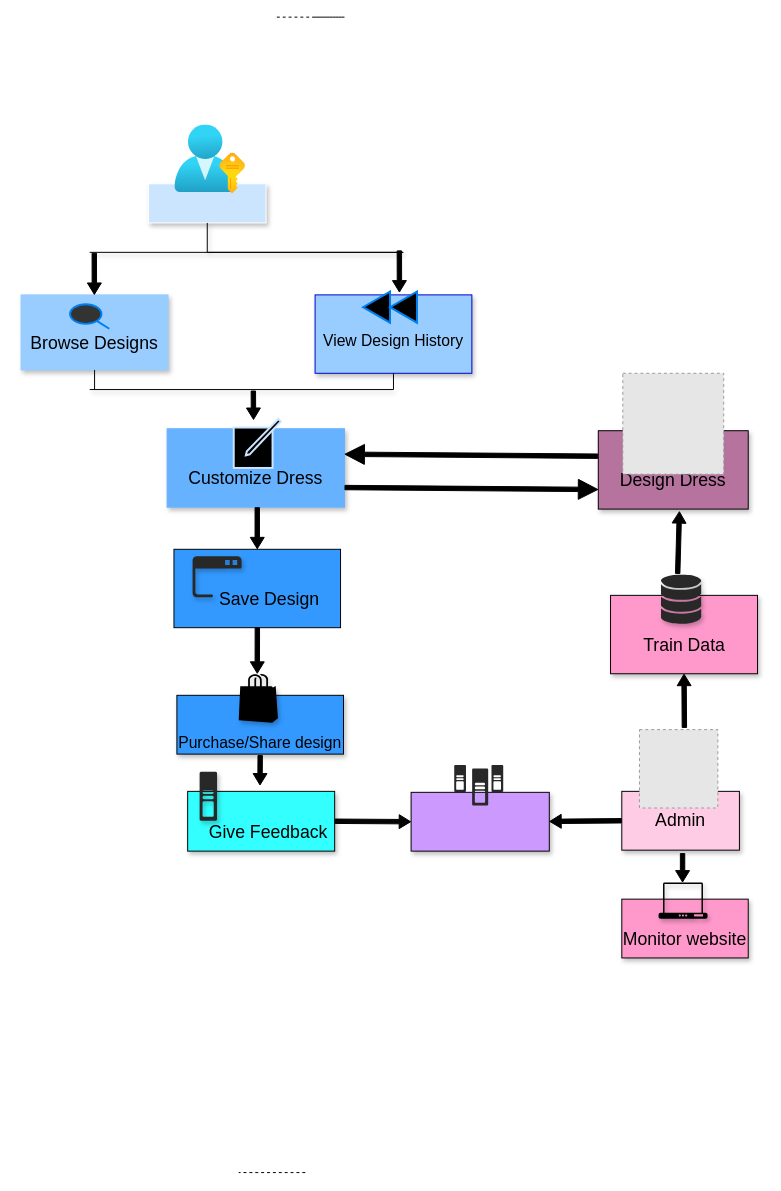
Some shapes in this 781 by 1191 pixel diagram are drawn without their labels. Grey dashed boxes stand in for pictures. The centre of each missing label's shape, as x and y in pixels:
"Check Feedback" goes at pixel 480 822.
"User log in" goes at pixel 208 204.
